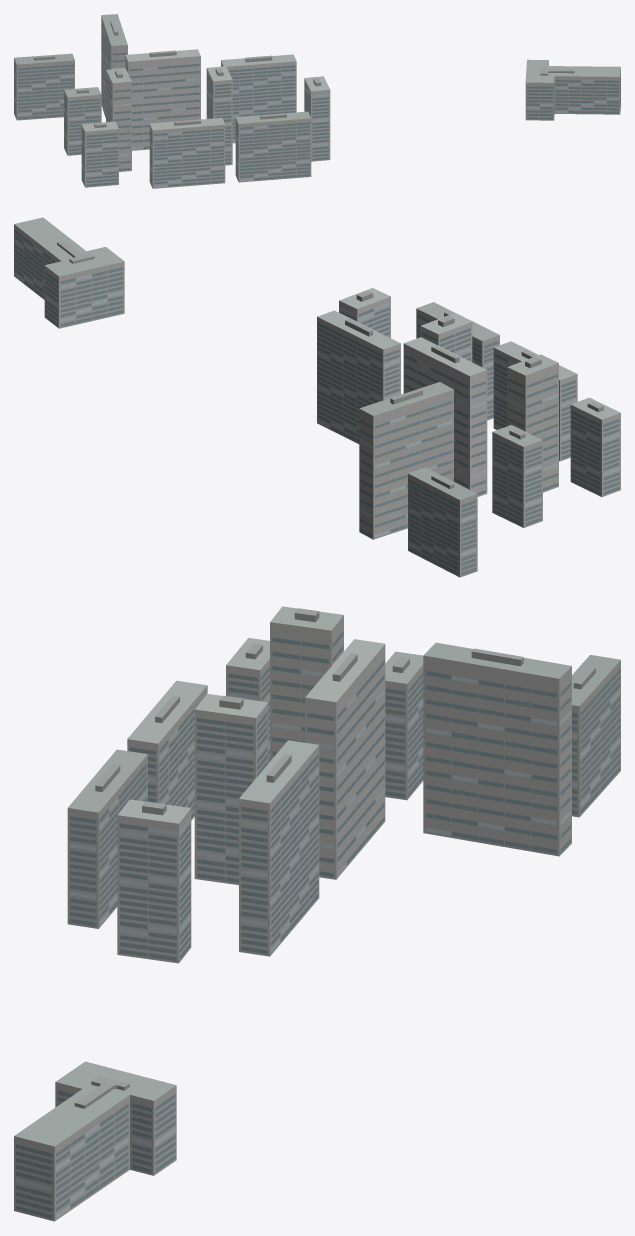
The model's file is apt-a13312303.glb.
3 renders of one model, top to bottom at view 1: azimuth 30°, elevation 25°; view 2: azimuth 150°, elevation 25°; view 3: azimuth 270°, elevation 25°, orthographic. The views are drawn at different scales.
Parts seen in each view (by area): view 1: apt-a13312303; view 2: apt-a13312303; view 3: apt-a13312303.
Part boxes in pixels (box(x1,y1,x2,y2)): apt-a13312303: box(14, 14, 620, 188); apt-a13312303: box(14, 217, 620, 577); apt-a13312303: box(14, 606, 620, 1221).
Bounding box in the file's own units: 374 × 68 × 203.
